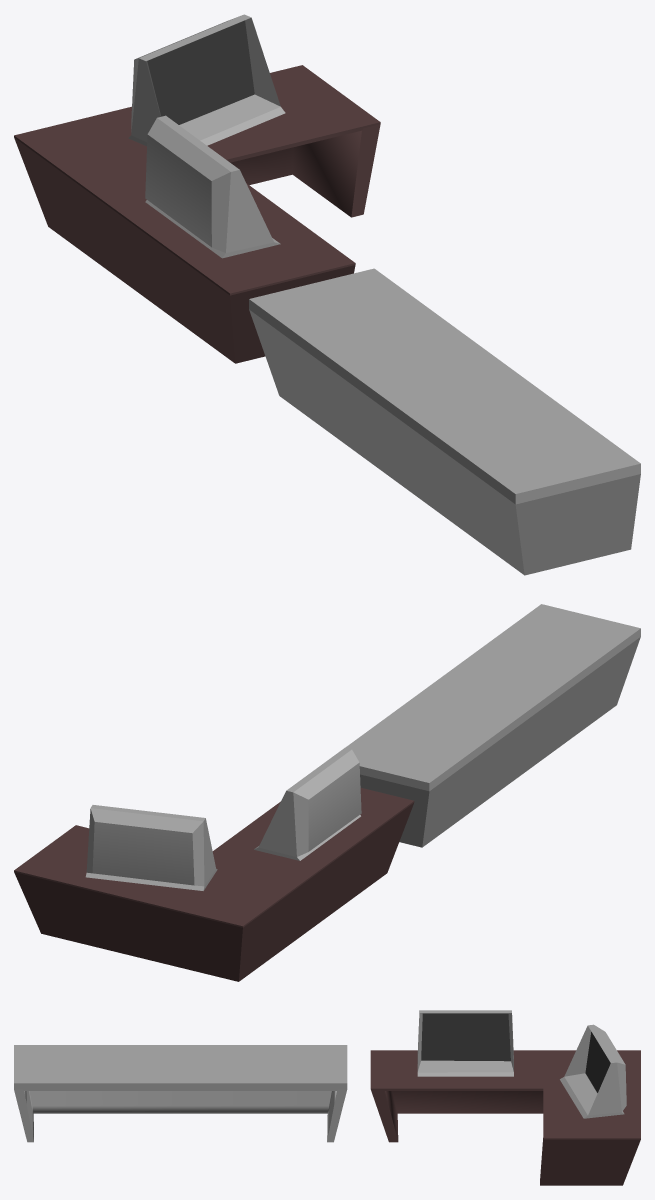
File: controlroom setup2.fbx
3 views of the same model, one above another, from view 1: azimuth 30°, elevation 25°; view 2: azimuth 150°, elevation 25°; view 3: azimuth 270°, elevation 25° (orthographic). The views are drawn at different scales.
Visible parts, largest first — view 1: Mesa_principal, pCube4, pCube9, pCube5; view 2: Mesa_principal, pCube4, pCube9, pCube5; view 3: Mesa_principal, pCube4, pCube5, pCube9.
Part boxes in pixels (box(x1,y1,x2,y2)): Mesa_principal: box(249, 268, 640, 575); pCube4: box(14, 65, 380, 363); pCube9: box(128, 14, 285, 146); pCube5: box(145, 115, 280, 258); Mesa_principal: box(345, 604, 640, 847); pCube4: box(14, 788, 414, 981); pCube9: box(85, 805, 217, 890); pCube5: box(254, 748, 361, 860); Mesa_principal: box(14, 1045, 347, 1142); pCube4: box(370, 1050, 640, 1185); pCube5: box(417, 1010, 513, 1076); pCube9: box(560, 1024, 626, 1118).
Bounding box in the file's own units: 7.75 × 4.34 × 23.33.
